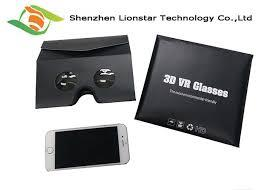Cardboard: (137, 26, 261, 148), (24, 38, 138, 103)
Electronics: (31, 117, 134, 181)
